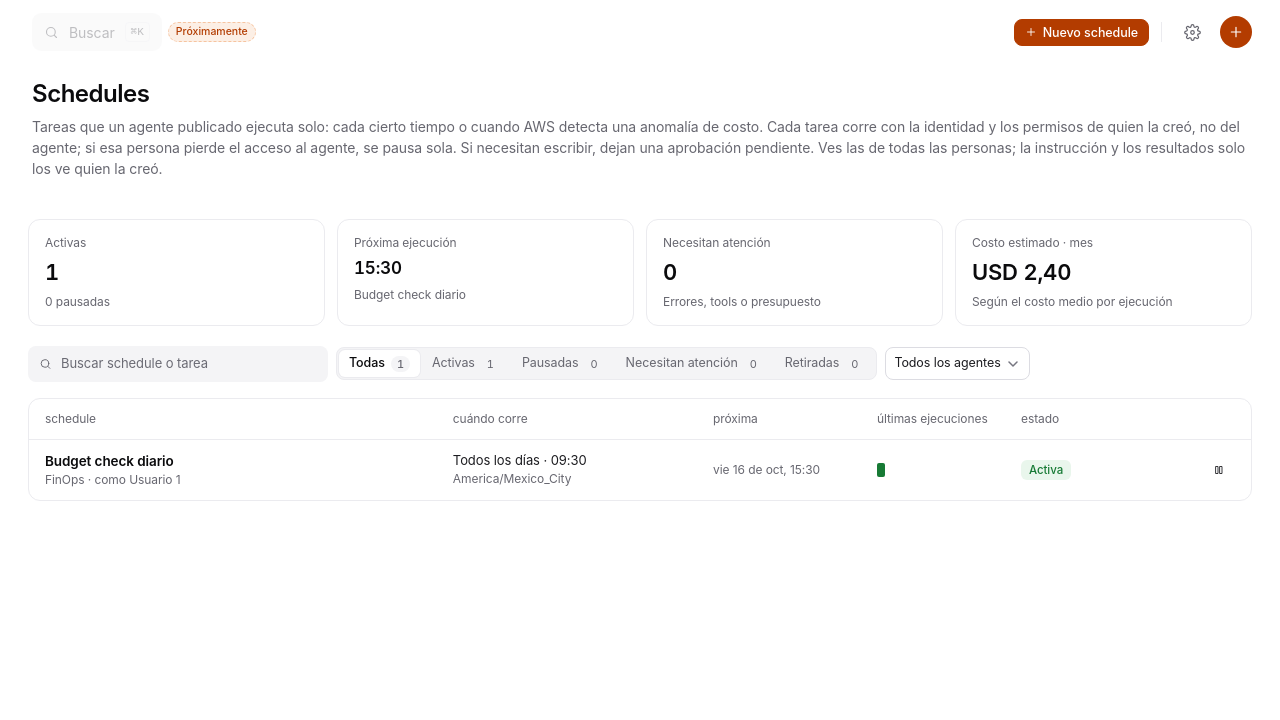
SchedulesPage › an administrator sees that only the owner edits, runs or resumes a task
Click the text "Budget check diario" below "cuándo corre". click: (109, 460)
box: [45,452,174,468]
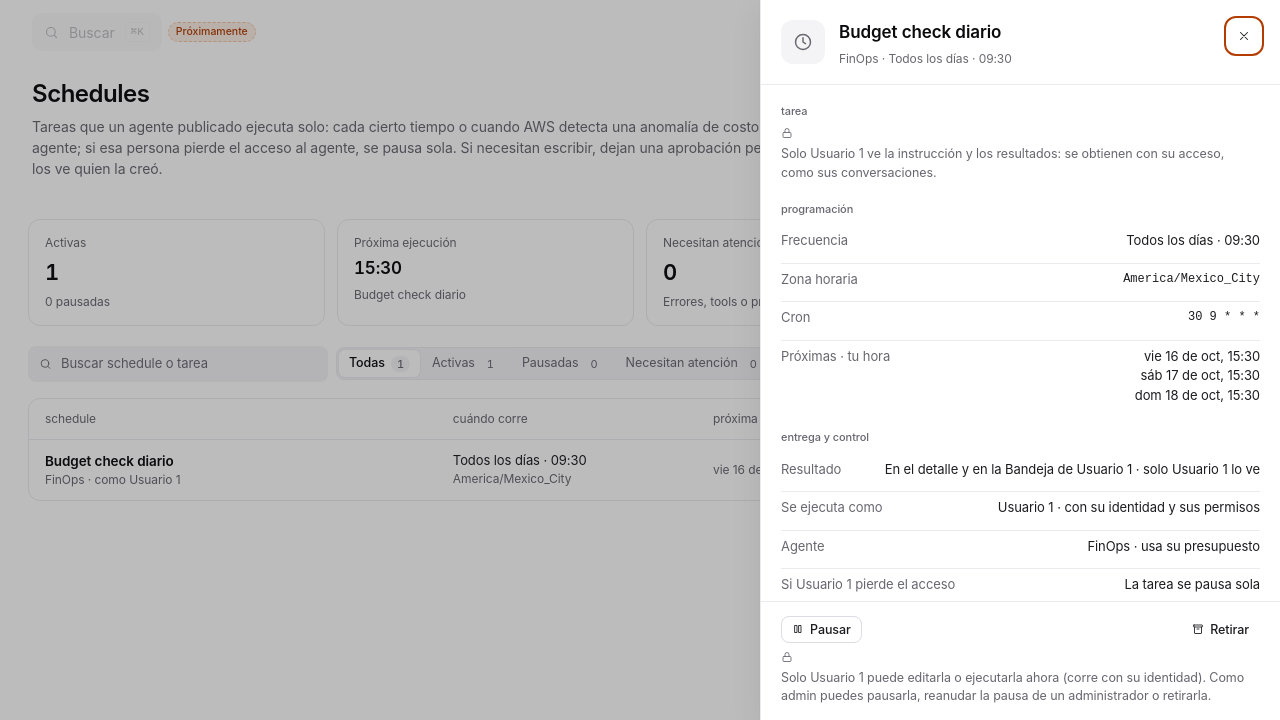
Expected: the text "Solo Usuario 1 puede editarla" is shown, [781,670,1244,703]
Expected: the button "Retirar" is shown, [1181,616,1260,642]
Expected: the text "Solo Usuario 1 ve la instrucción y los resultados" is shown, [781,146,1224,180]
